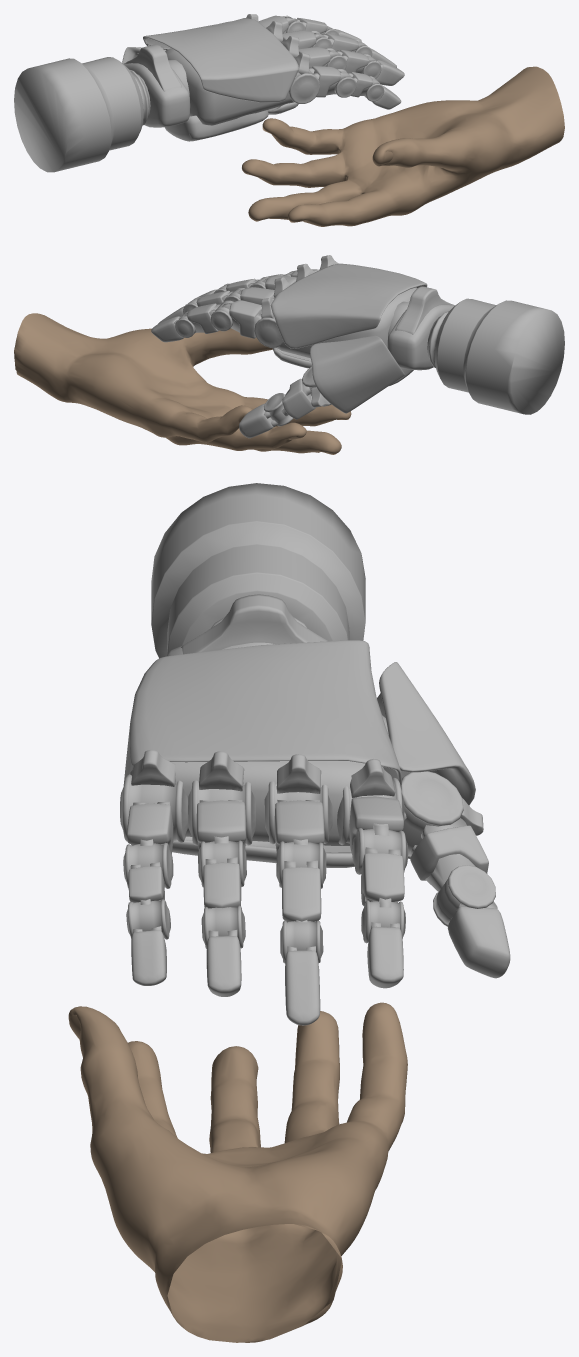
The model's file is hci.gltf.
3 views of the same model, one above another, from view 1: azimuth 30°, elevation 25°; view 2: azimuth 150°, elevation 25°; view 3: azimuth 270°, elevation 25° (orthographic). The views are drawn at different scales.
Parts seen in each view (by area): view 1: Cyborg Hand, hand; view 2: Cyborg Hand, hand; view 3: Cyborg Hand, hand.
Boxes of the visible parts, box(x1,y1,x2,y2) form: Cyborg Hand: box(14, 14, 404, 172); hand: box(242, 66, 564, 226); Cyborg Hand: box(151, 255, 564, 438); hand: box(14, 313, 351, 454); Cyborg Hand: box(120, 483, 510, 1025); hand: box(68, 1002, 407, 1342).
Size of the model in its own units: 32.07 by 12.87 by 12.11.
